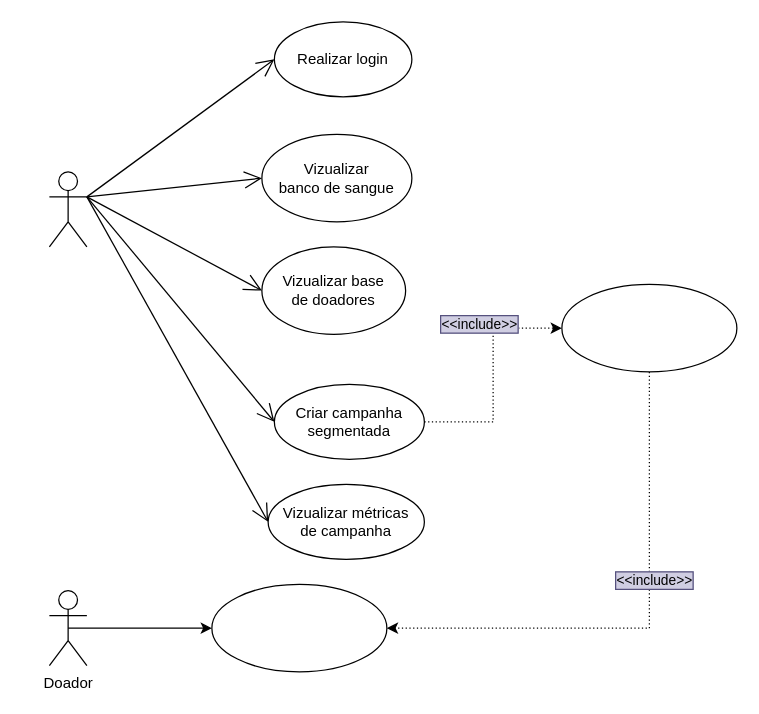
This 759x714 diagram has some shape labels left out. The centre of each missing label's shape, as x and y in pixels:
"Administrador" goes at [67,209].
"Enviar notificações por e-mail" goes at [649,327].
"Registrar intenção de doação" goes at [299,627].
